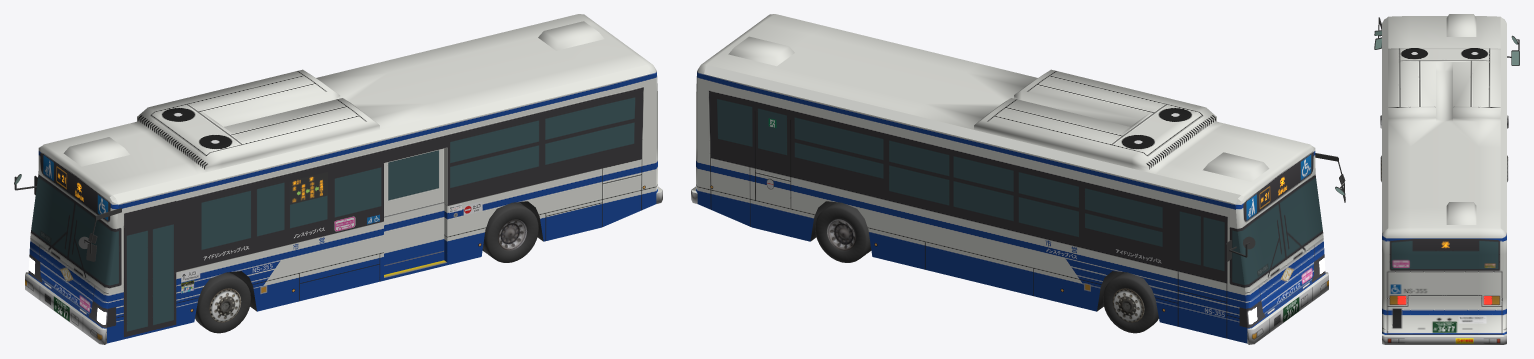
File: bus.glb
The picture shows the model from 3 angles, left to right: view 1: azimuth 30°, elevation 25°; view 2: azimuth 150°, elevation 25°; view 3: azimuth 270°, elevation 25°; orthographic projection. The views are drawn at different scales.
Visible parts, largest first — view 1: Cube.004; view 2: Cube.004; view 3: Cube.004.
Boxes of the visible parts, x1=… form: Cube.004: x1=14, y1=14, x2=662, y2=344; Cube.004: x1=691, y1=14, x2=1345, y2=344; Cube.004: x1=1374, y1=14, x2=1519, y2=344.
Size of the model in its own units: 10.88 by 3.11 by 2.9.
1 material, 1 textured.
